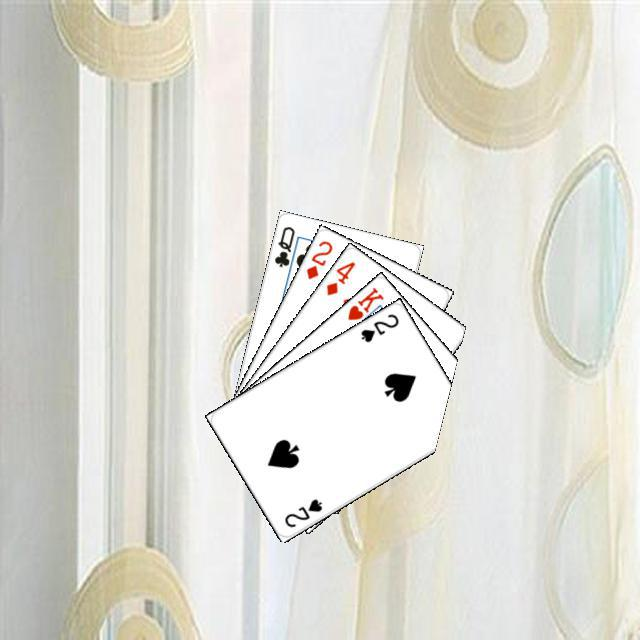2d: (301, 236, 334, 281)
2s: (356, 309, 401, 344), (279, 494, 324, 529)
4d: (321, 257, 357, 297)
Kh: (343, 282, 385, 332)
Qc: (269, 221, 302, 275)
